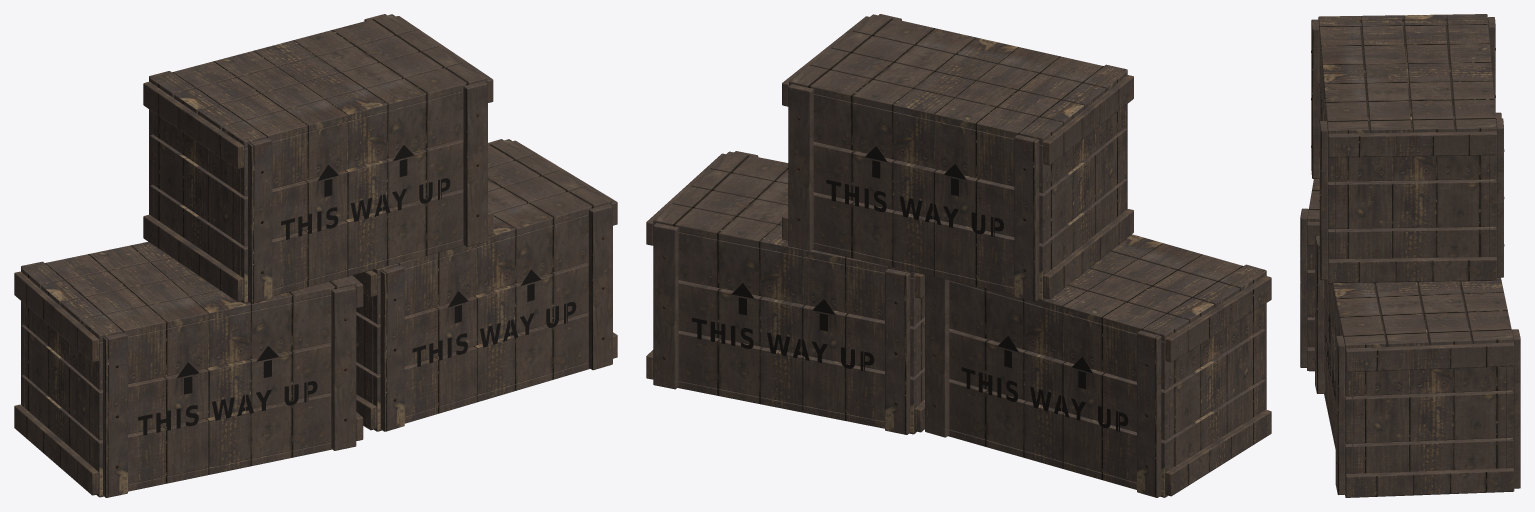
File: works-pop-up.glb
3 views of the same model, side by side, from view 1: azimuth 30°, elevation 25°; view 2: azimuth 150°, elevation 25°; view 3: azimuth 270°, elevation 25° (orthographic). The views are drawn at different scales.
Parts seen in each view (by area): view 1: crate.008, crate.006, crate.007, stencil-front.006, stencil-front.008, stencil-front.007; view 2: crate.008, crate.006, crate.007, stencil-back.007, stencil-back.008, stencil-back.006; view 3: crate.008, crate.007, crate.006.
Part boxes in pixels (x1,y1,x2,y2): crate.008: (143,14,493,303); crate.006: (14,241,363,497); crate.007: (353,139,617,431); stencil-front.006: (138,346,317,435); stencil-front.008: (281,145,450,239); stencil-front.007: (412,269,576,366); crate.008: (782,14,1133,301); crate.006: (921,234,1271,497); crate.007: (646,151,924,434); stencil-back.007: (692,283,874,371); stencil-back.008: (826,146,1003,237); stencil-back.006: (961,335,1128,431); crate.008: (1311,14,1504,283); crate.007: (1315,234,1520,497); crate.006: (1300,112,1501,371).
Size of the model in its own units: 1.73 by 1 by 0.653.
Materials: 4 (4 with a texture image).
